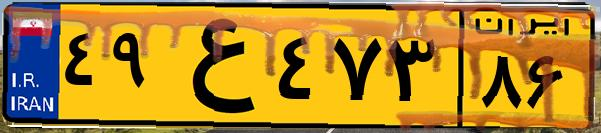3: (385, 28, 445, 110)
4: (270, 28, 330, 110), (57, 26, 110, 100)
6: (525, 38, 570, 115)
7: (330, 28, 385, 110)
8: (475, 38, 525, 113)
9: (110, 28, 158, 98)
ع: (158, 12, 270, 120)
